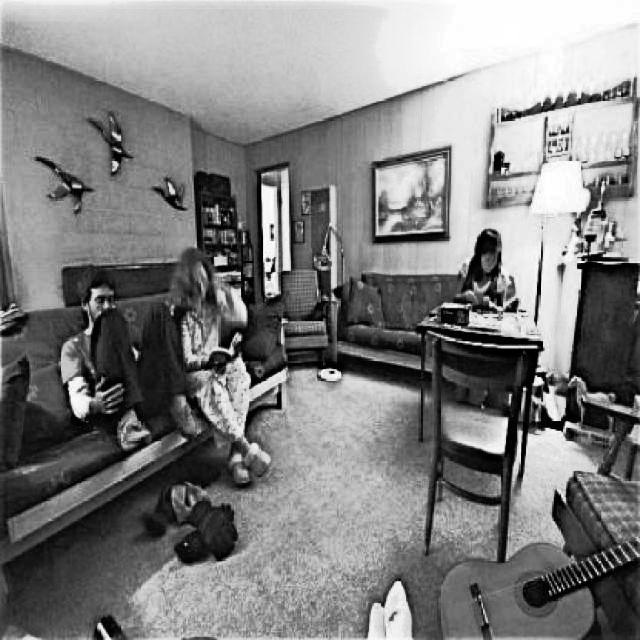Person: (61, 264, 204, 455), (171, 248, 271, 489), (453, 226, 513, 312)
